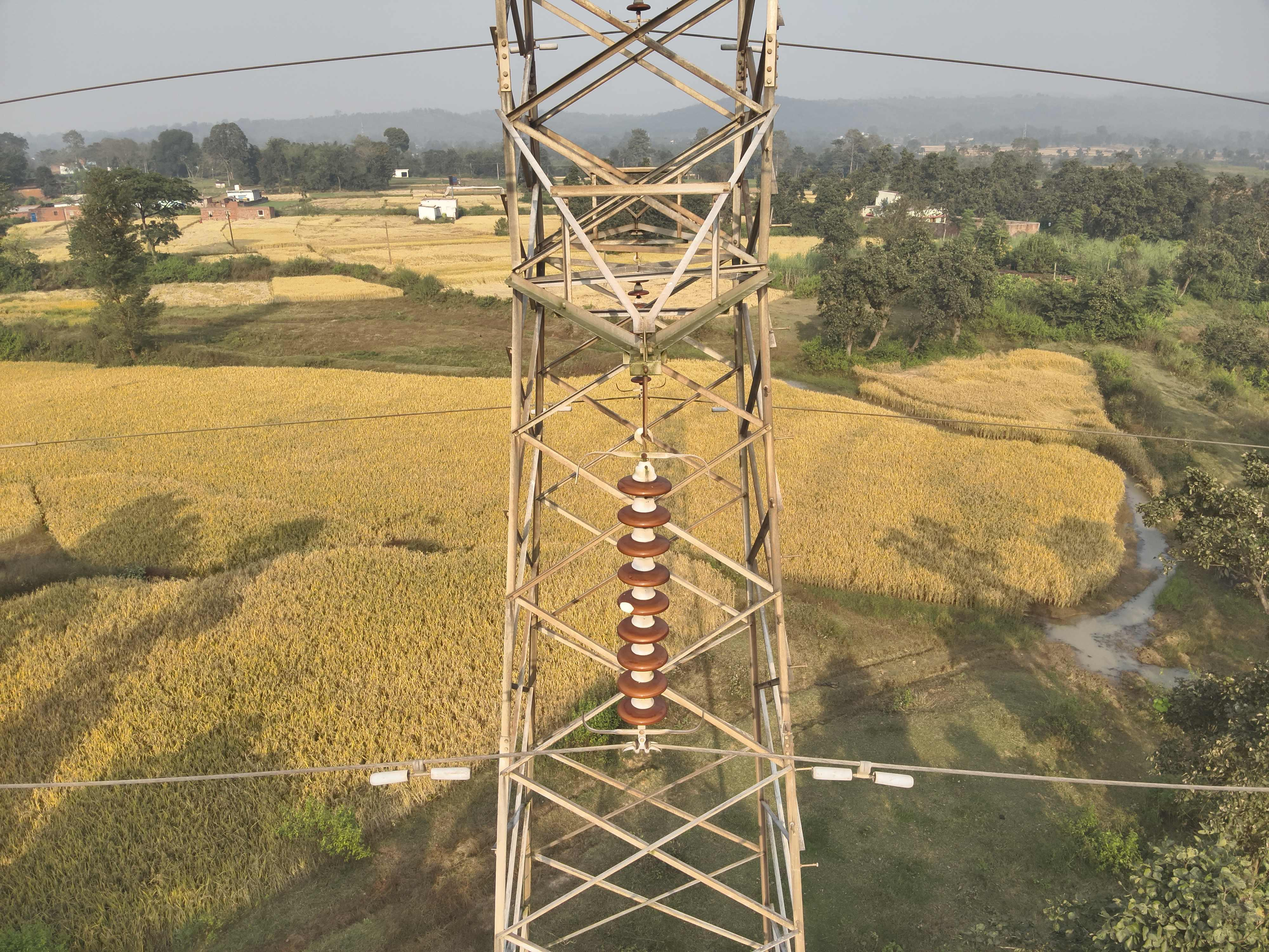broken_insulator: (617, 589, 670, 616)
